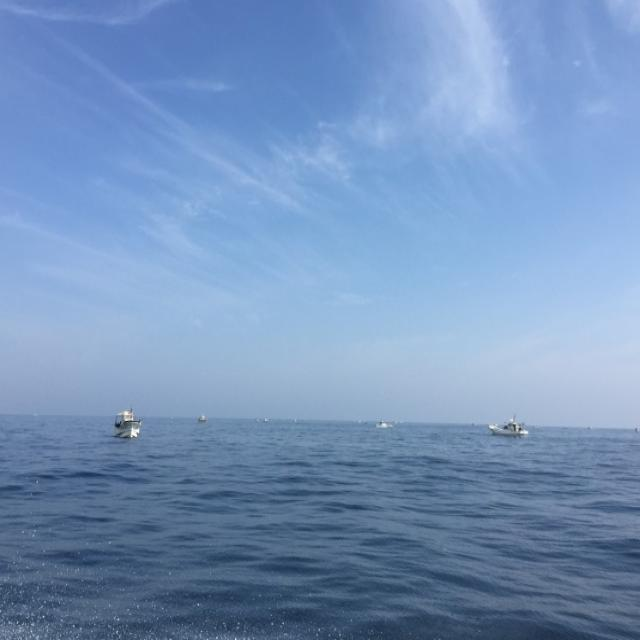houseboat: (112, 403, 144, 443), (489, 414, 531, 439)
